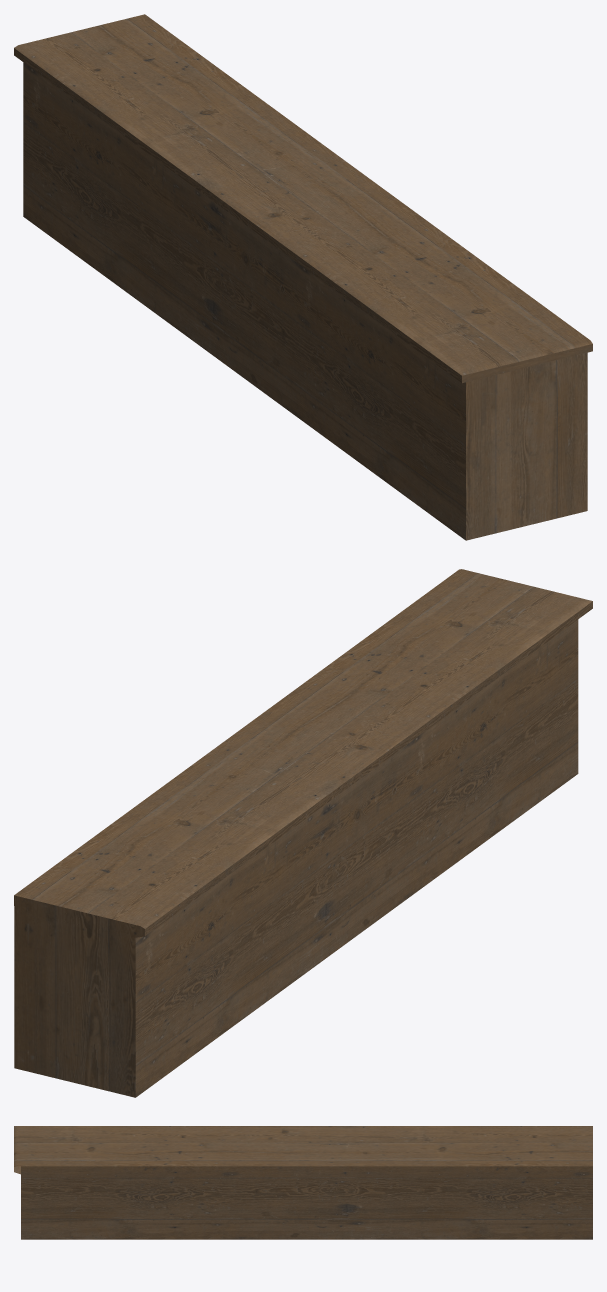
Rendered from SM_Stair05A.fbx.
3 renders of one model, top to bottom at view 1: azimuth 30°, elevation 25°; view 2: azimuth 150°, elevation 25°; view 3: azimuth 270°, elevation 25°, orthographic. The views are drawn at different scales.
Parts seen in each view (by area): view 1: SM_Stair05A; view 2: SM_Stair05A; view 3: SM_Stair05A.
Boxes of the visible parts, box(x1,y1,x2,y2) form: SM_Stair05A: box(14, 14, 592, 540); SM_Stair05A: box(14, 569, 592, 1097); SM_Stair05A: box(14, 1126, 592, 1239).
Size of the model in its own units: 39.13 by 232 by 49.32.
